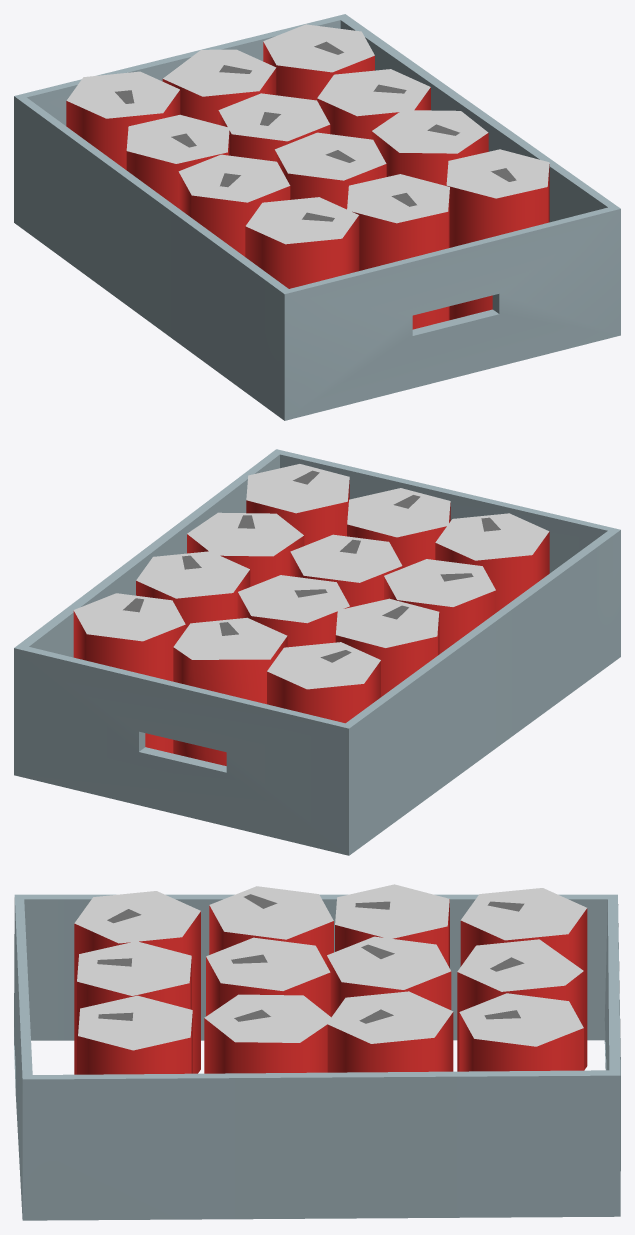
File: warehouse_037.glb
3 renders of one model, top to bottom at view 1: azimuth 30°, elevation 25°; view 2: azimuth 150°, elevation 25°; view 3: azimuth 270°, elevation 25°, orthographic. The views are drawn at different scales.
Parts seen in each view (by area): view 1: warehouse_037; view 2: warehouse_037; view 3: warehouse_037.
Part boxes in pixels (left/top/right/bottom): warehouse_037: left=14, top=14, right=620, bottom=420; warehouse_037: left=14, top=449, right=620, bottom=855; warehouse_037: left=14, top=884, right=620, bottom=1220.
Bounding box in the file's own units: 0.2992 × 0.1239 × 0.4154.
1 material, 1 textured.
